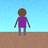person: (14, 8, 30, 35)
